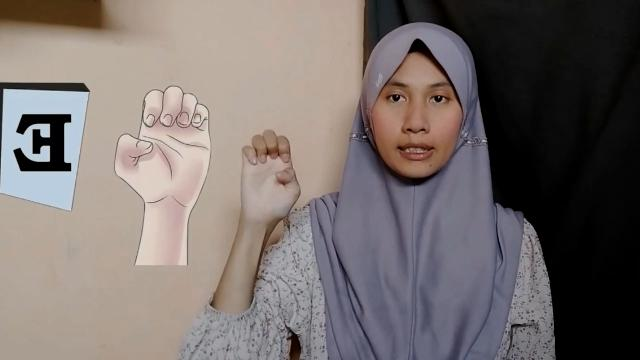E: (238, 127, 302, 222)
